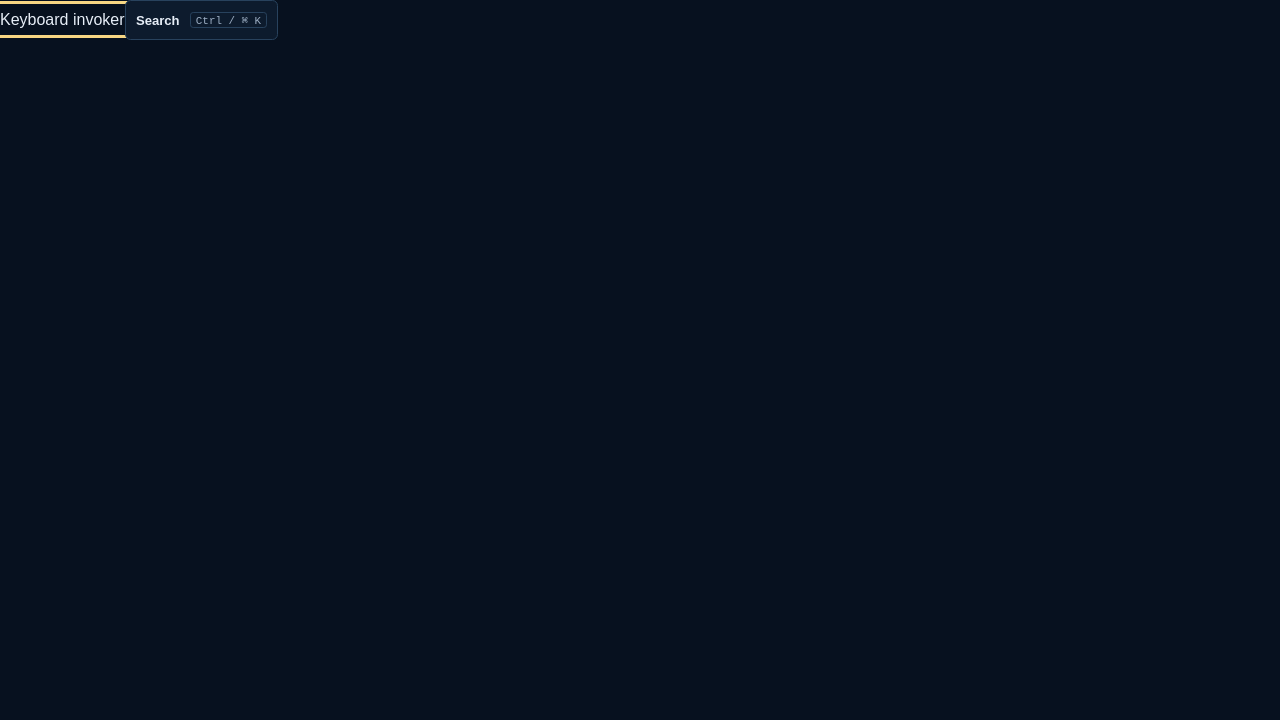
Test case: global search dialog › opens by keyboard, searches, closes with Escape, and restores the exact invoker
Type keys "{Control>}k{/Control}"
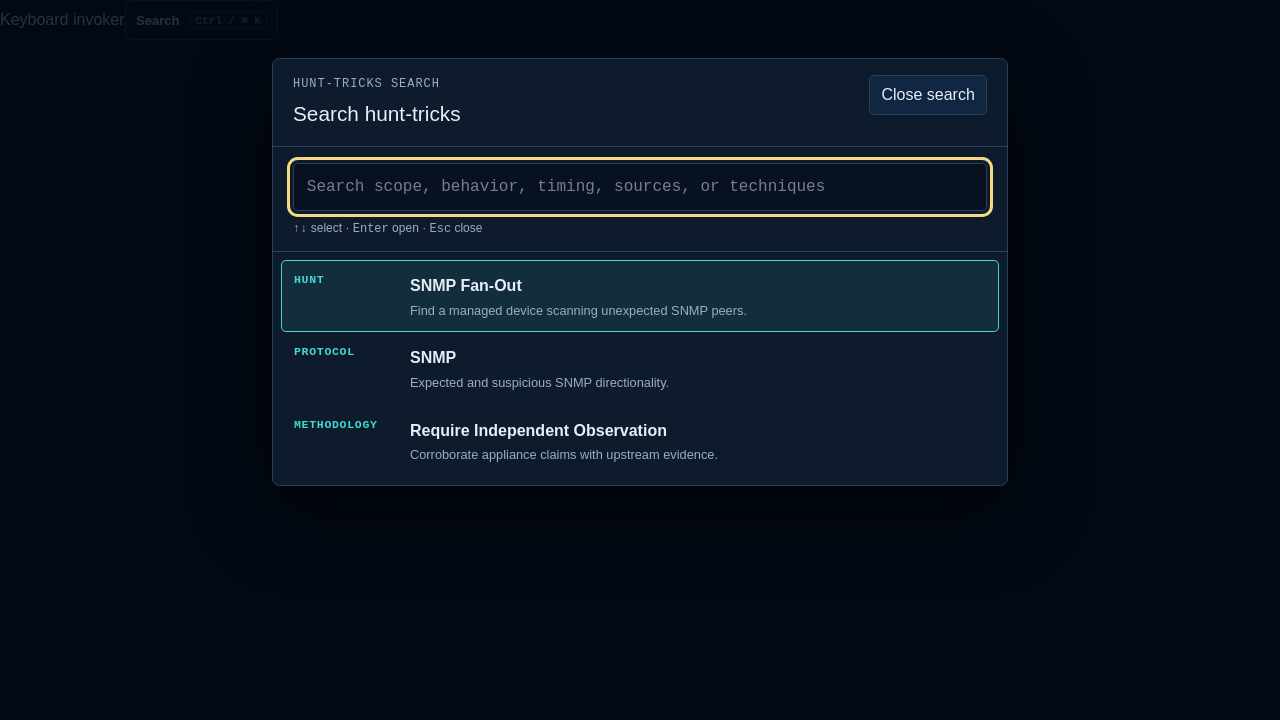
In the dropdown named "Search guide": [640, 187] box left=293, top=163, right=987, bottom=211, type "SNMP"
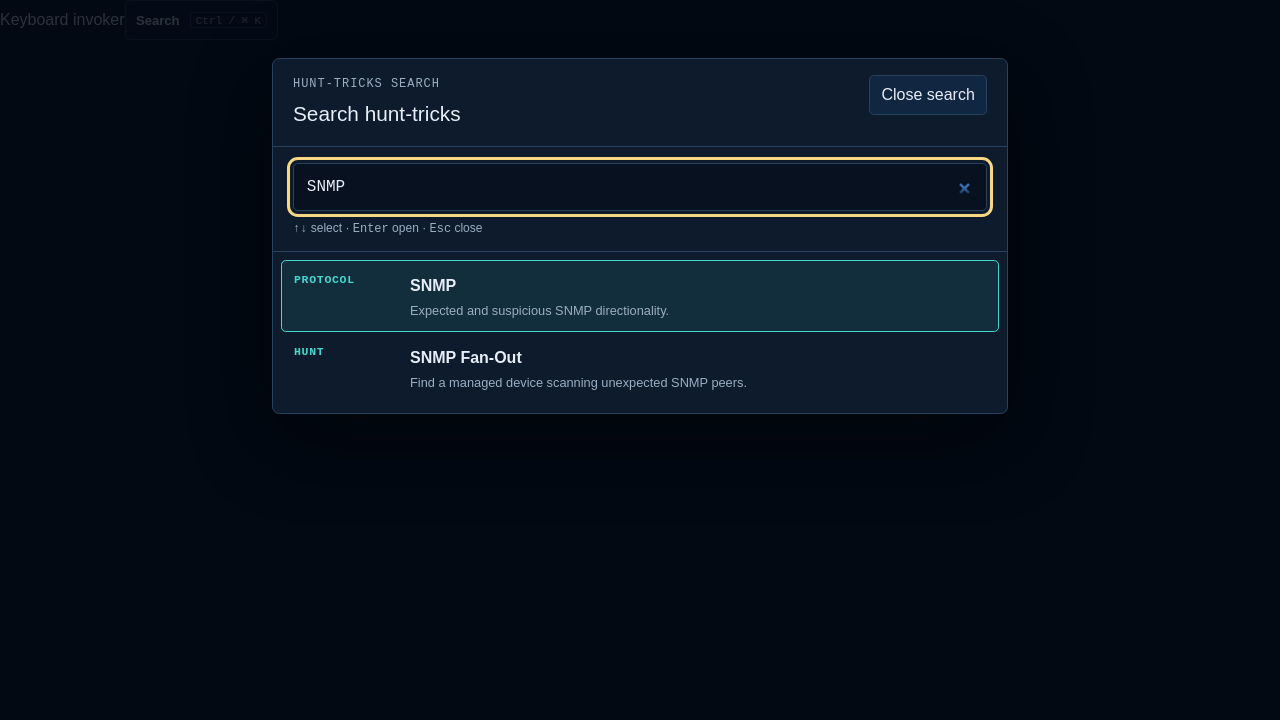
Now the option "HUNT SNMP Fan-Out" is shown, box left=294, top=346, right=747, bottom=390
Press Escape
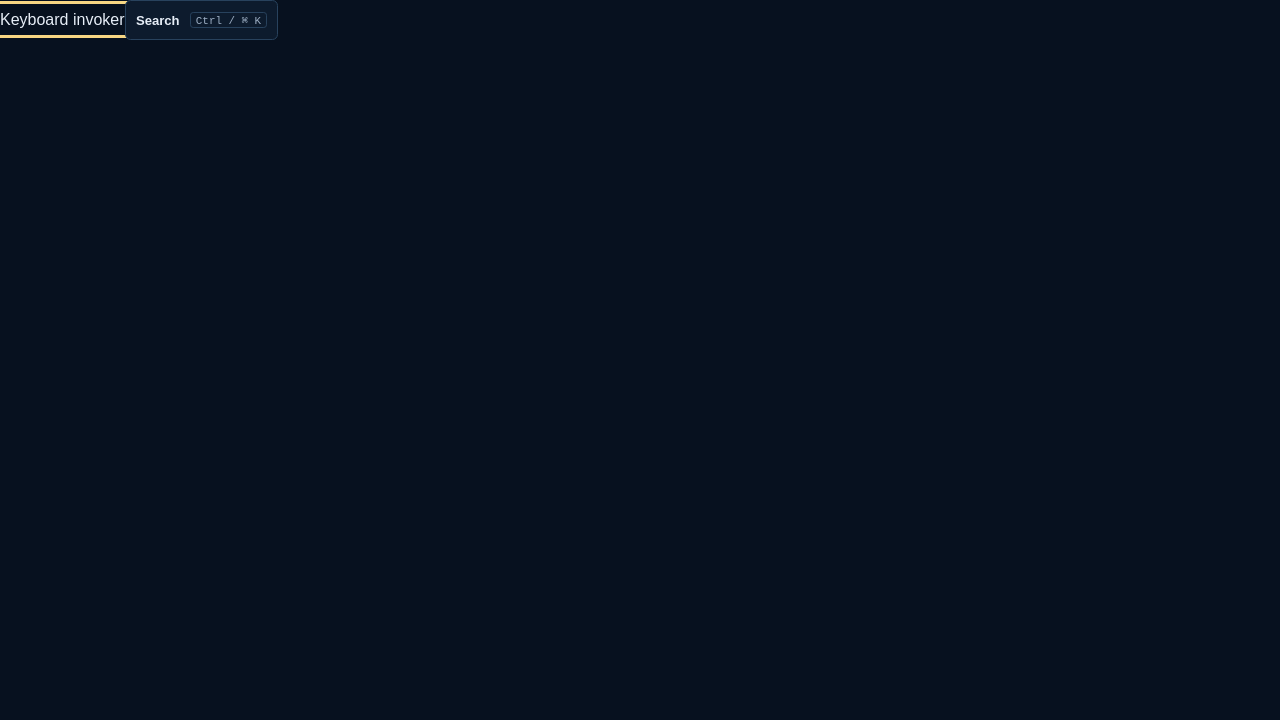
Now the heading "Search hunt-tricks" is gone
